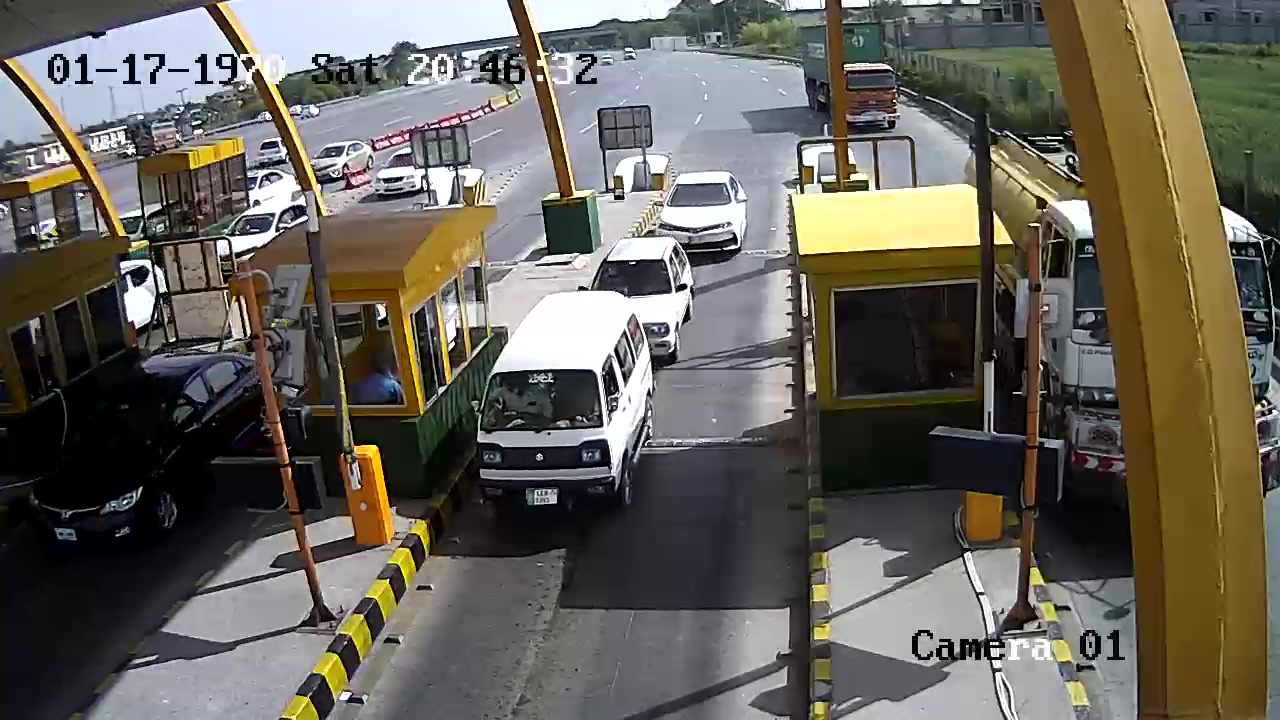F1: (484, 297, 653, 518)
